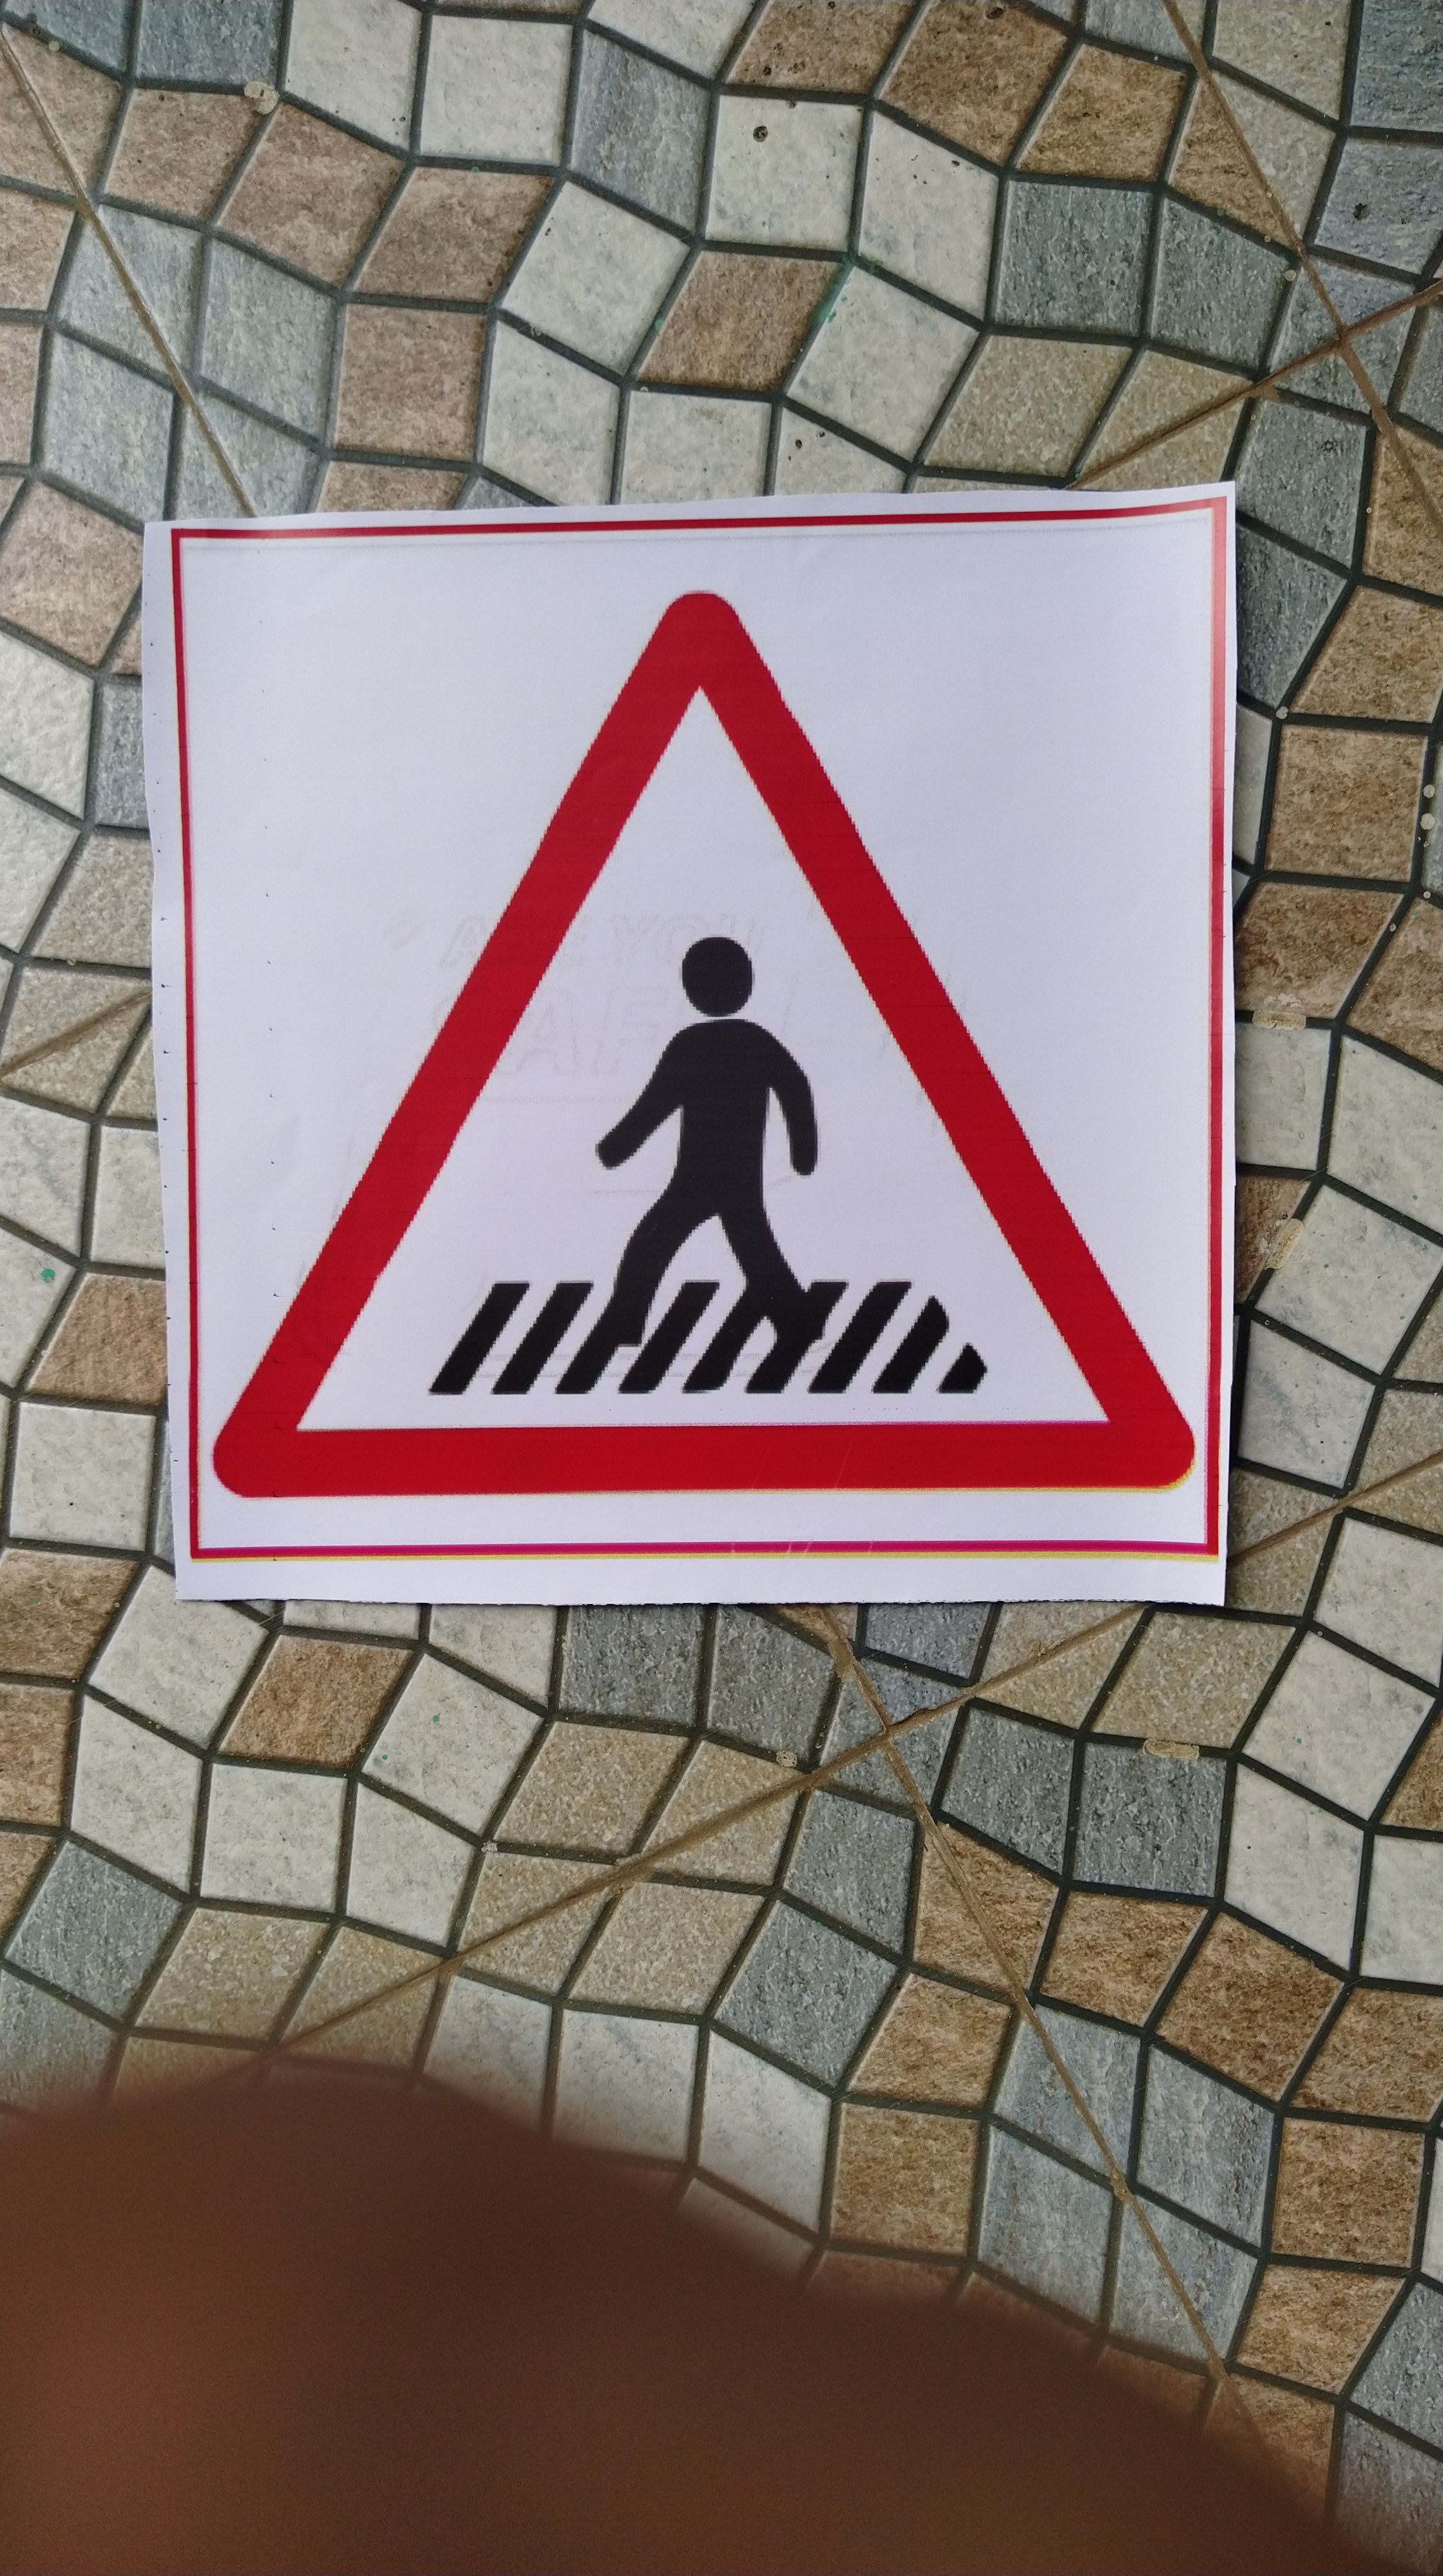pedestrain crossing: (211, 568, 1209, 1654)
